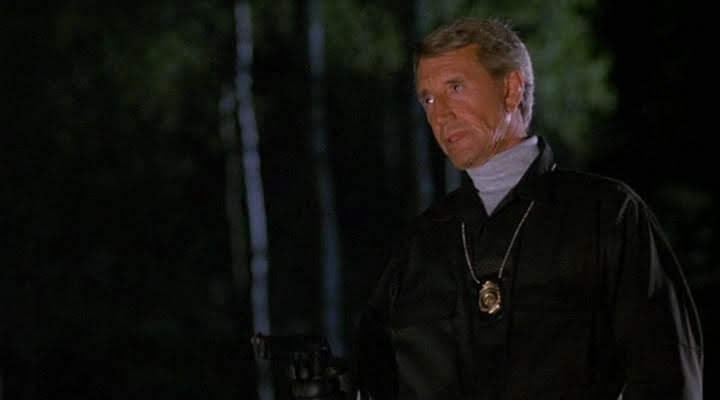gun: (232, 317, 388, 397)
